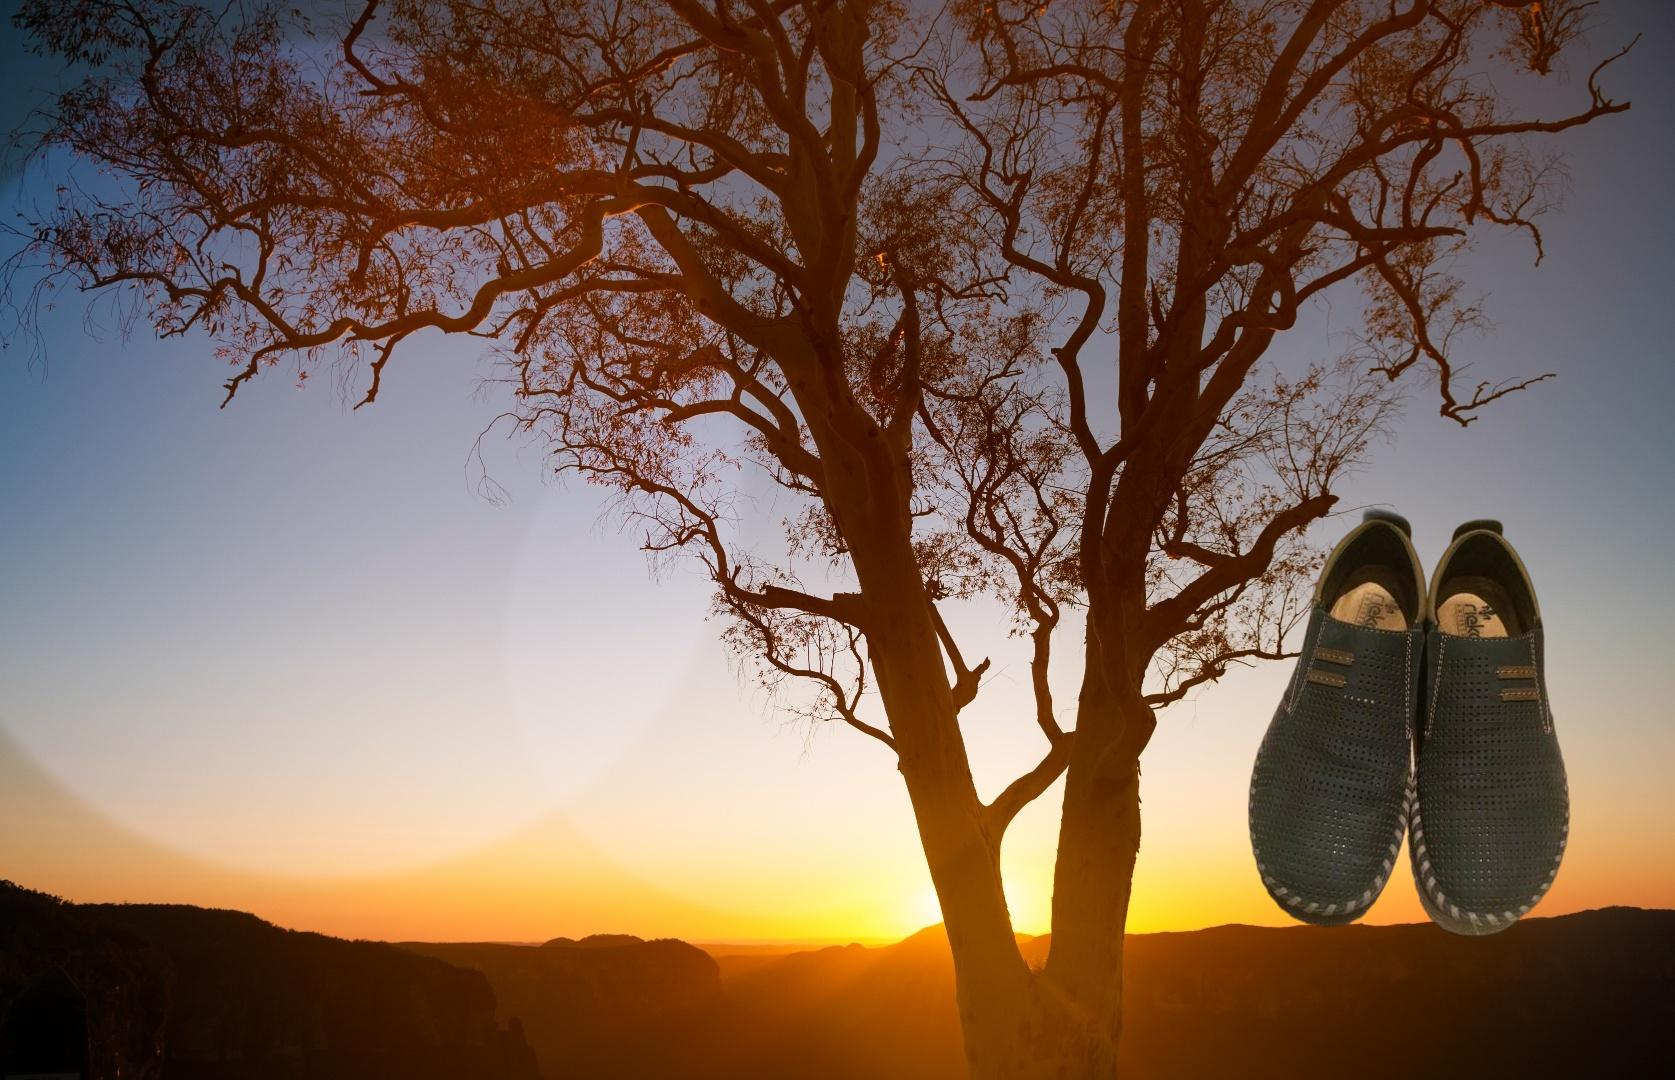shoes: (1246, 505, 1574, 940)
